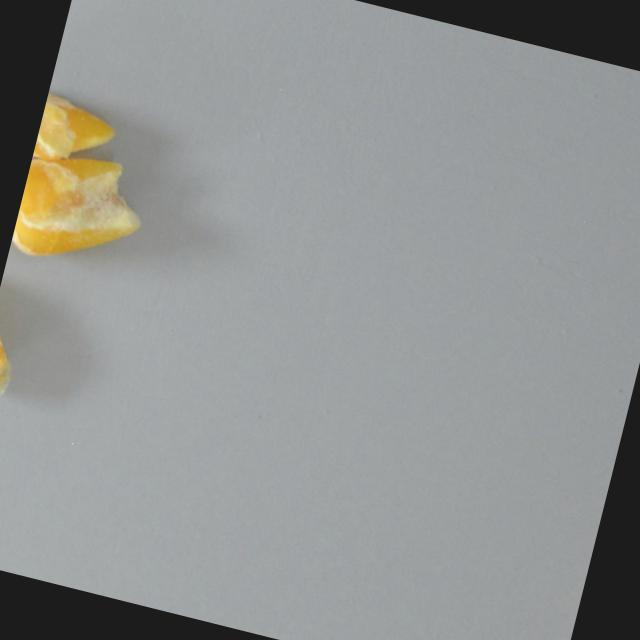pelicula: (5, 124, 130, 284), (22, 59, 97, 201), (0, 274, 18, 349)
